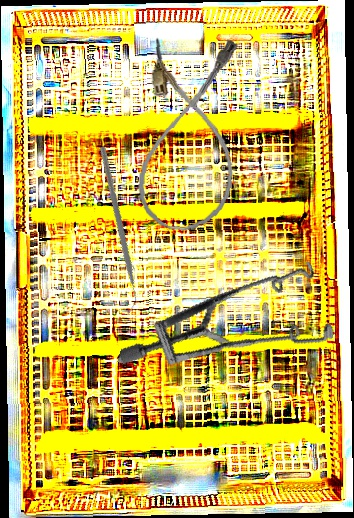Cannula: (134, 33, 245, 236)
Chopper: (31, 145, 200, 315)
Speculum: (117, 217, 352, 420)
